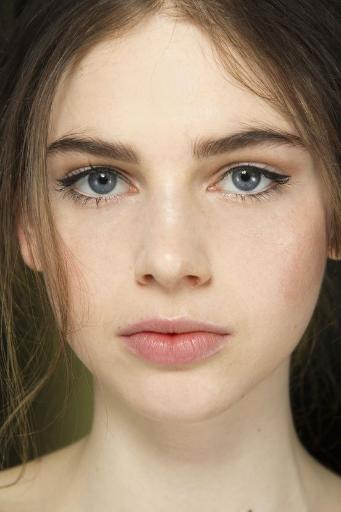left_eye: (206, 166, 291, 207)
left_lip_corner: (221, 324, 238, 344)
right_eye: (60, 168, 138, 208)
right_lip_corner: (113, 327, 130, 349)
